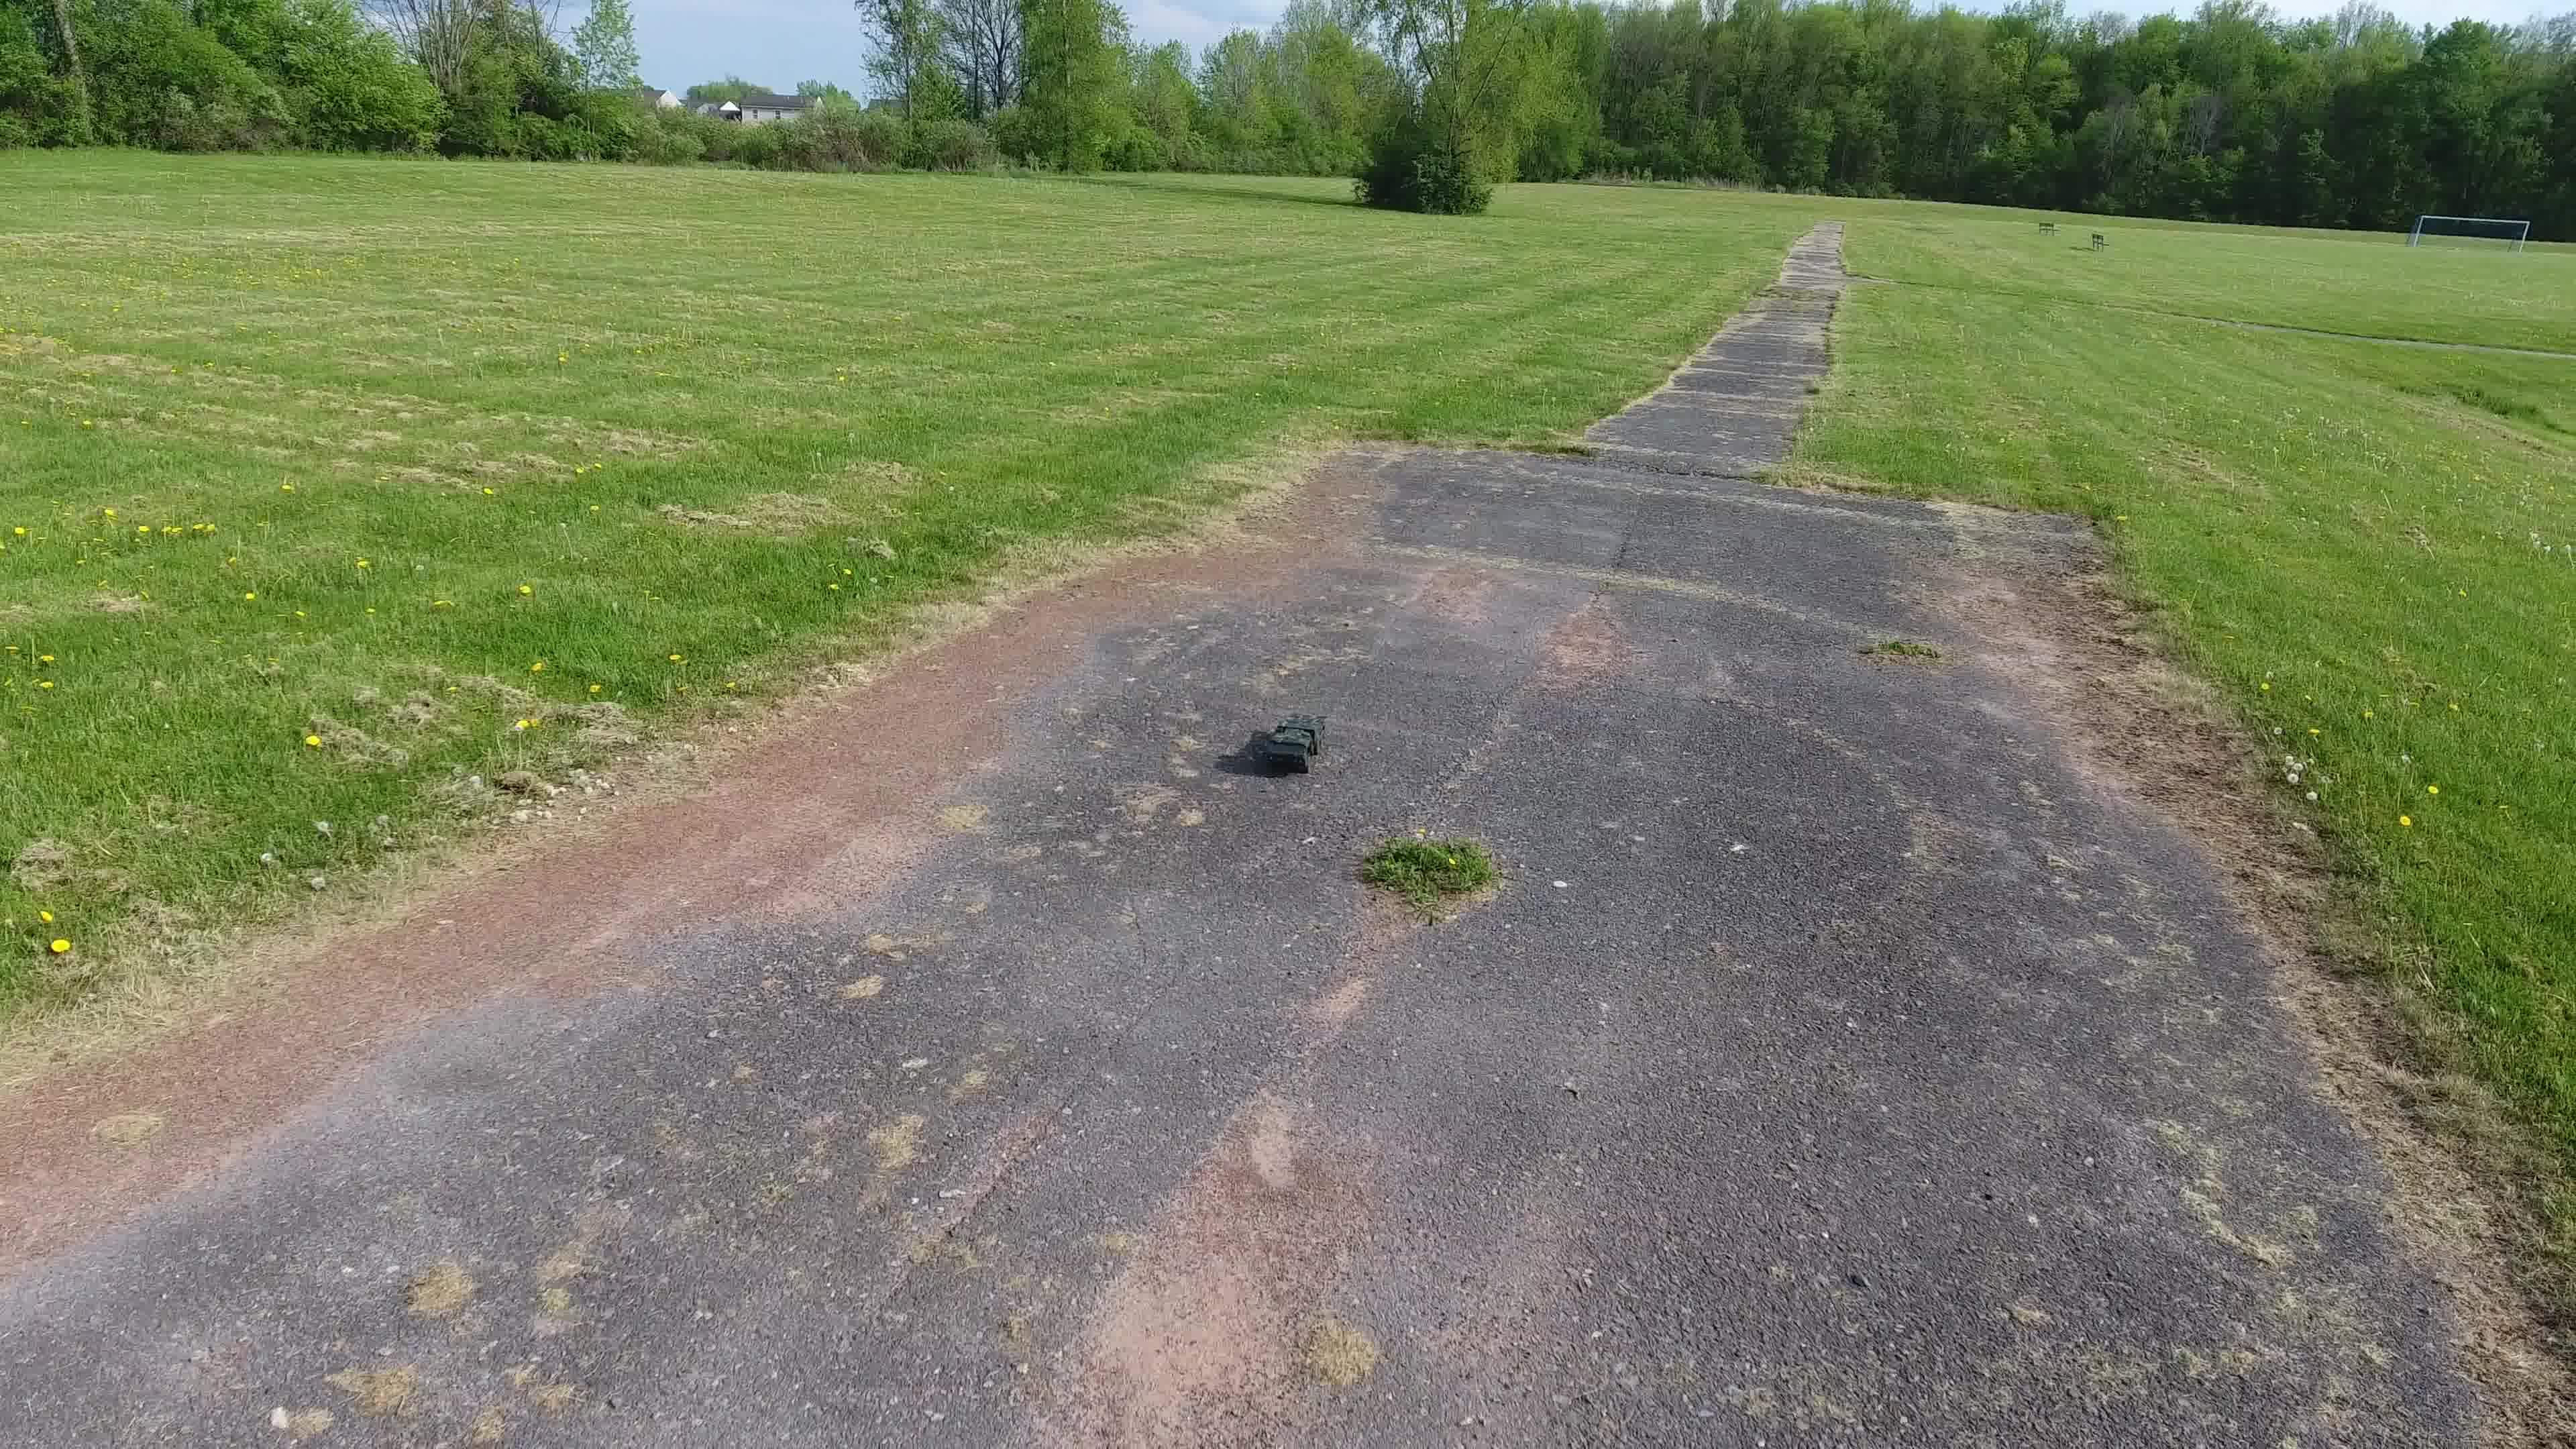transporter9: (1258, 713, 1327, 773)
